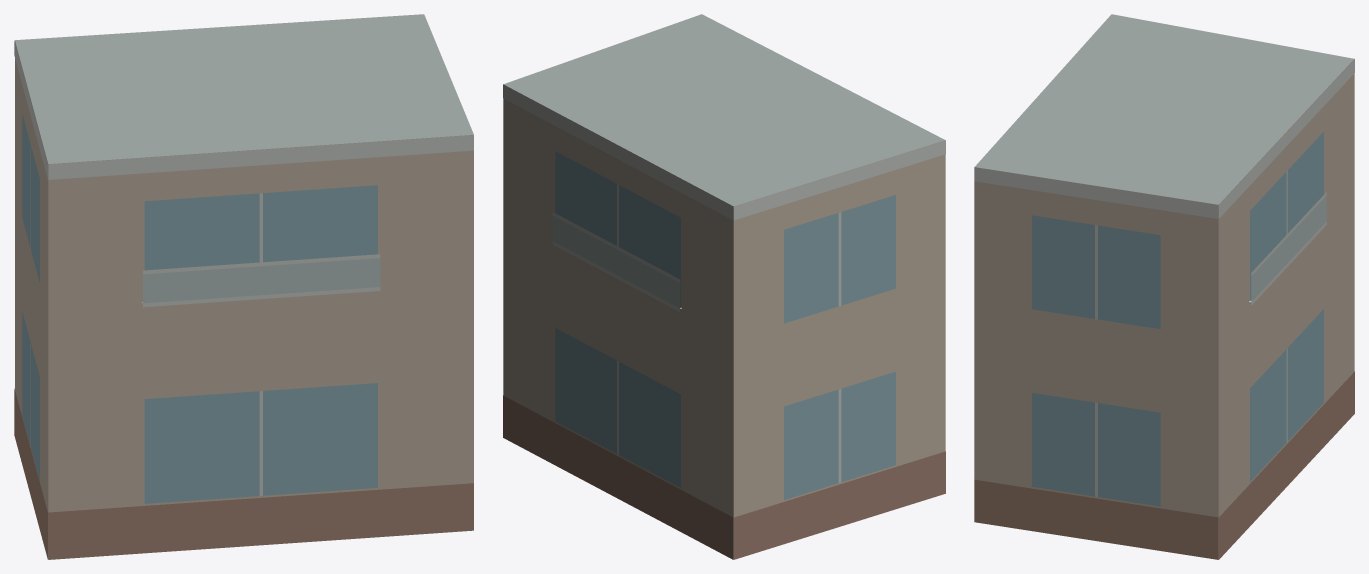
Rendered from survey-upis-32551299.glb.
3 renders of one model, left to right at view 1: azimuth 30°, elevation 25°; view 2: azimuth 150°, elevation 25°; view 3: azimuth 270°, elevation 25°, orthographic. The views are drawn at different scales.
Parts seen in each view (by area): view 1: survey-upis-32551299.tmp; view 2: survey-upis-32551299.tmp; view 3: survey-upis-32551299.tmp.
Boxes of the visible parts, x1,y1,x2,y2 form: survey-upis-32551299.tmp: (14, 14, 473, 559); survey-upis-32551299.tmp: (503, 14, 945, 559); survey-upis-32551299.tmp: (974, 14, 1354, 559).
Size of the model in its own units: 7.04 by 6.1 by 5.93.
